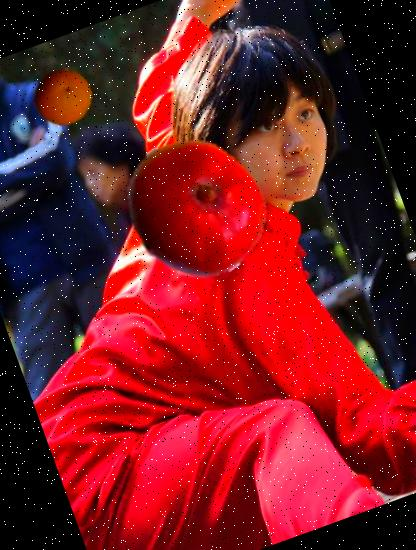Mango: (102, 113, 288, 300)
Orange: (26, 59, 100, 133)
